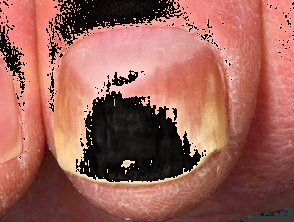Nail_psoriasis: (44, 2, 261, 221), (0, 30, 41, 218)
